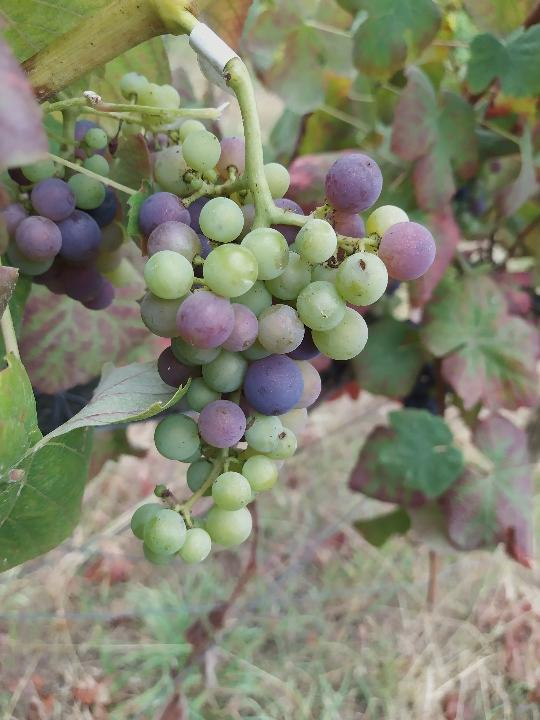grape: (128, 124, 440, 568)
